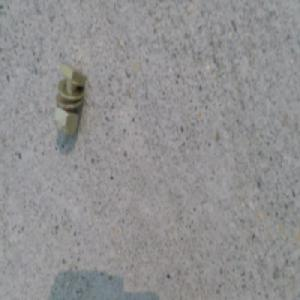BoltNutSet: (56, 70, 87, 141)
